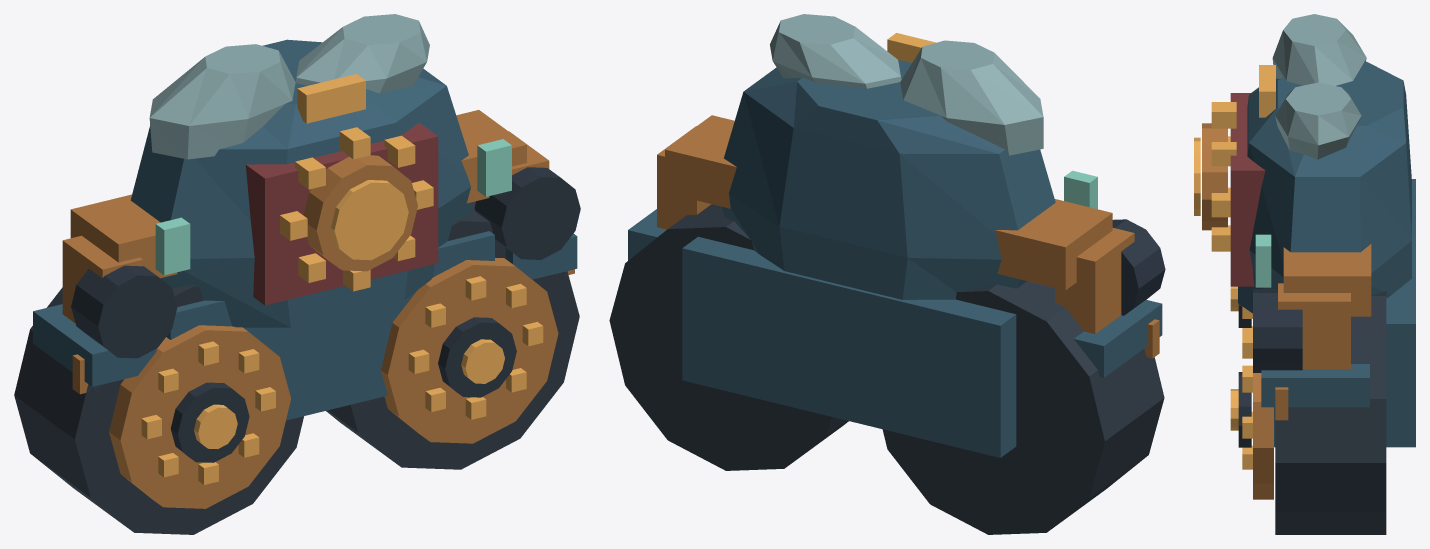
Rendered from grand-finale-model.obj.
3 views of the same model, side by side, from view 1: azimuth 30°, elevation 25°; view 2: azimuth 150°, elevation 25°; view 3: azimuth 270°, elevation 25° (orthographic). The views are drawn at different scales.
Parts seen in each view (by area): view 1: GrandFinale; view 2: GrandFinale; view 3: GrandFinale.
Part boxes in pixels (bbox=[...]): GrandFinale: bbox=[14, 14, 580, 534]; GrandFinale: bbox=[609, 14, 1165, 534]; GrandFinale: bbox=[1194, 14, 1415, 534].
Bounding box in the file's own units: 4.08 × 3.42 × 1.69.
